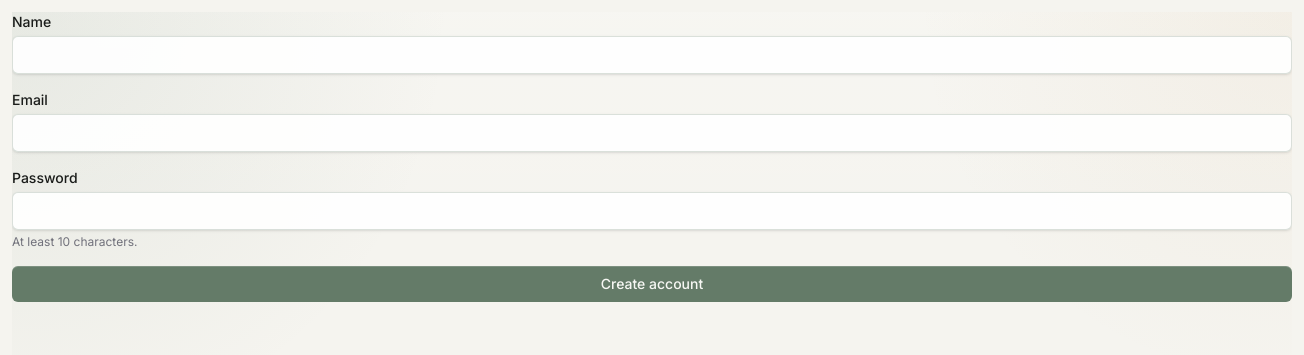
Test: SignupForm › shows provider errors without navigating
In the field labelled "Name": coordinates (652, 55) [12,36,1292,74], type "New User"
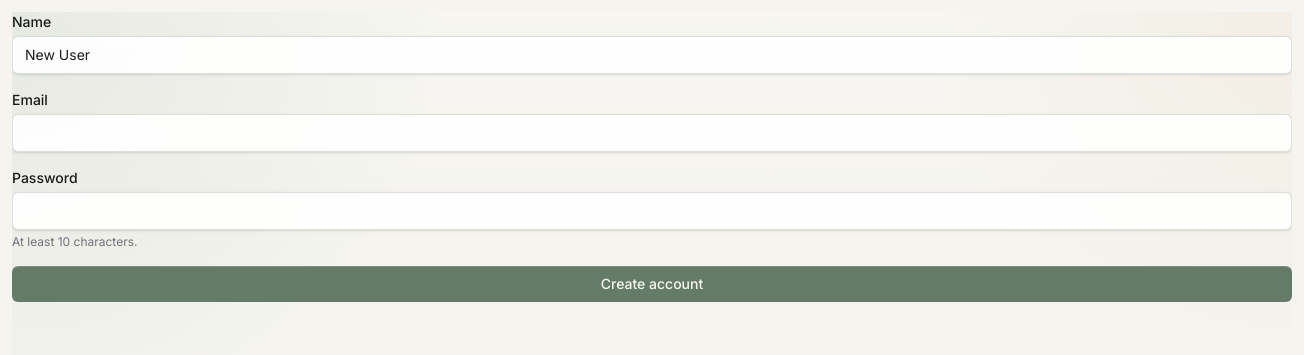
In the field labelled "Email": coordinates (652, 133) [12,114,1292,152], type "new@example.com"
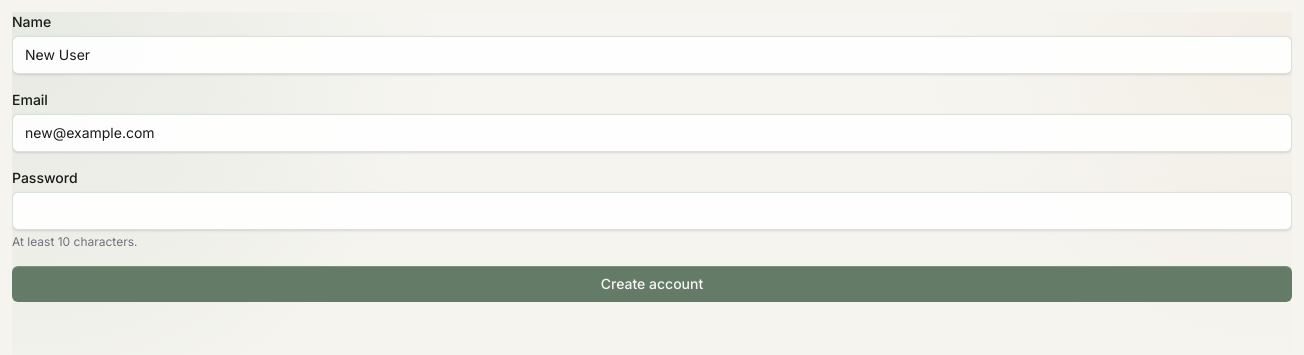
In the password field labelled "Password": coordinates (652, 211) [12,192,1292,230], type "supersecret123"
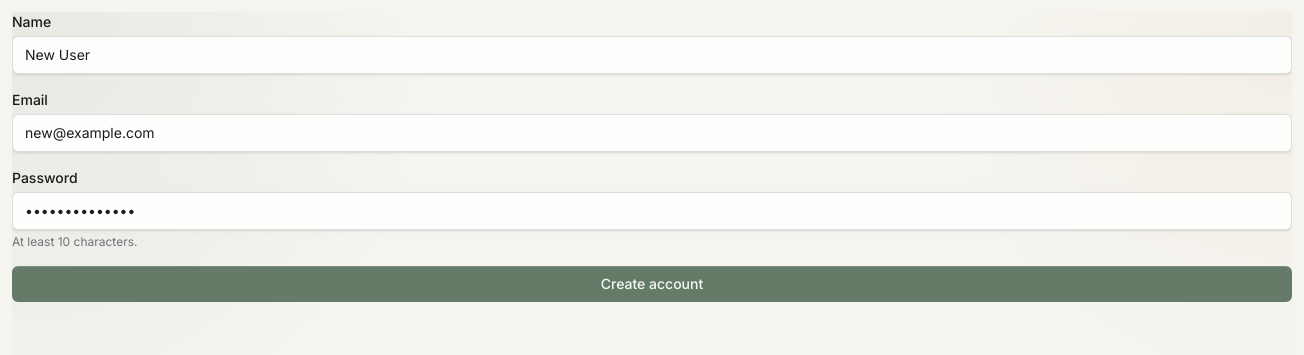
Click the button "Create account": coordinates (652, 284) [12,266,1292,302]
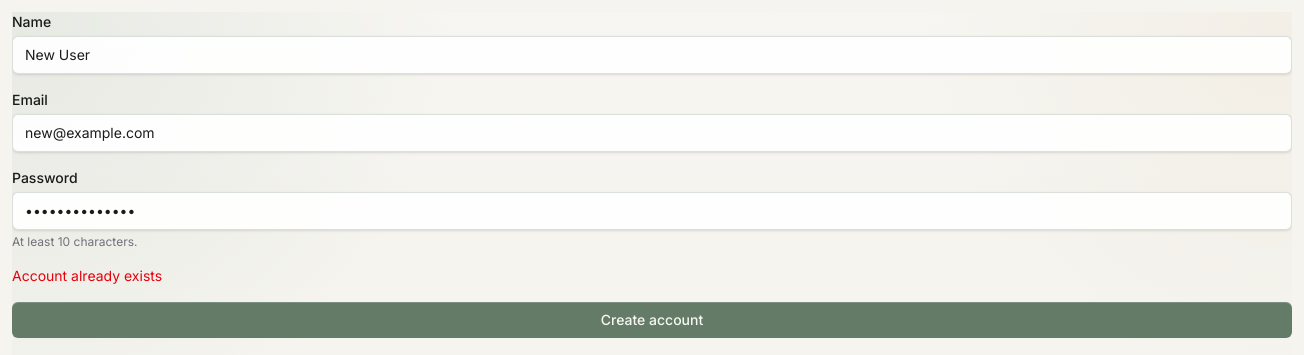
Now the text "Account already exists" is shown, box [12,267,162,284]
